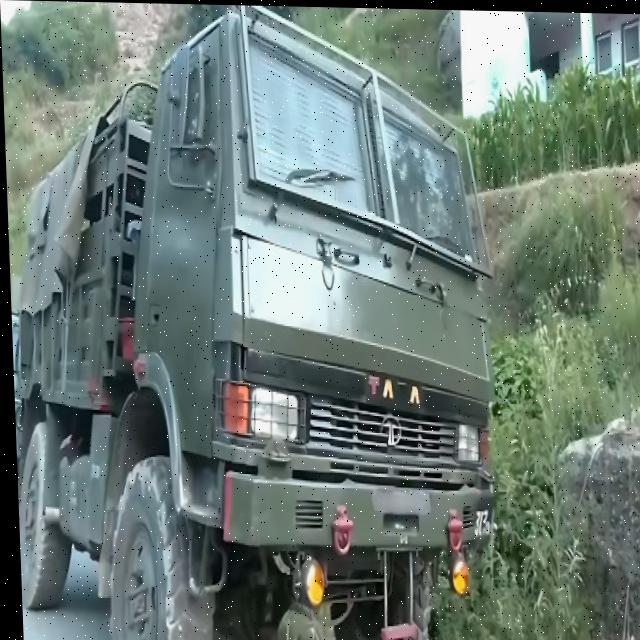unit number: (470, 505, 486, 536)
